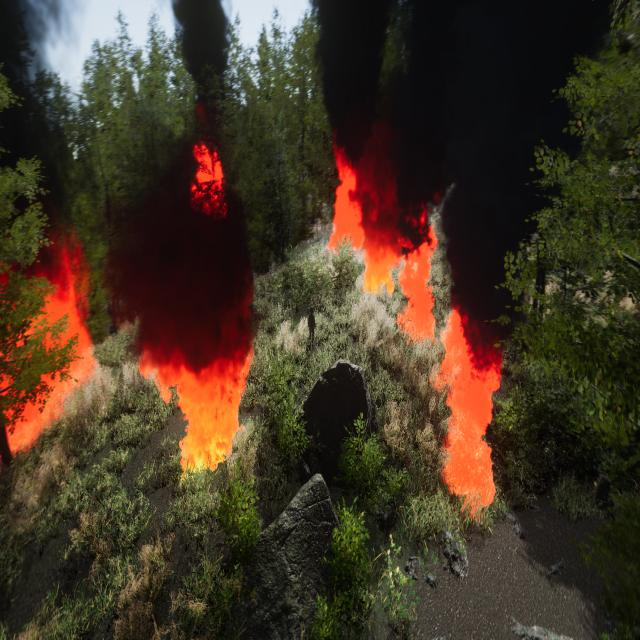Human: (301, 300, 320, 355)
